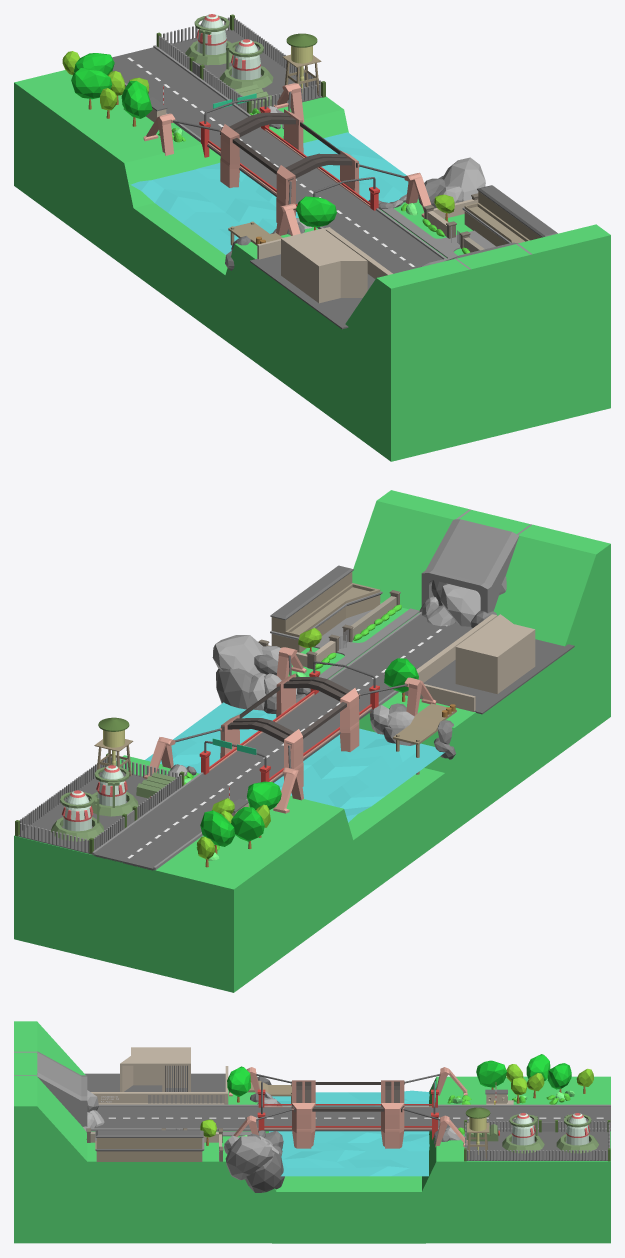
File: Estadio_2.fbx
3 renders of one model, top to bottom at view 1: azimuth 30°, elevation 25°; view 2: azimuth 150°, elevation 25°; view 3: azimuth 270°, elevation 25°, orthographic. The views are drawn at different scales.
Parts seen in each view (by area): view 1: Cube.001, Cube, Grid, Cube.002, Cube.006, Cube.018, Cube.040, Cube.022, Cube.038, Icosphere.042, Icosphere.066, Icosphere.036 (+9 smaller); view 2: Cube.001, Cube, Grid, Cube.002, Cube.039, Cube.018, Cube.006, Cube.040, Cube.022, Cube.038, Icosphere.042, Icosphere.025 (+14 smaller); view 3: Cube.001, Cube, Grid, Cube.002, Cube.018, Cube.006, Cube.039, Cube.022, Cube.007, Cube.040, Icosphere.042, Cylinder.026 (+16 smaller).
Part boxes in pixels (box(x1,y1,x2,y2)): Cube.001: box(14, 45, 610, 461); Cube: box(112, 47, 442, 273); Grid: box(130, 132, 408, 254); Cube.002: box(143, 83, 431, 235); Cube.006: box(281, 228, 367, 303); Cube.018: box(462, 185, 557, 246); Cube.040: box(250, 254, 375, 329); Cube.022: box(172, 29, 321, 112); Cube.038: box(381, 207, 495, 258); Icosphere.042: box(442, 157, 485, 201); Icosphere.066: box(296, 196, 336, 227); Icosphere.036: box(71, 68, 112, 99); Cube.001: box(14, 490, 610, 992); Cube: box(94, 615, 472, 870); Grid: box(145, 702, 444, 822); Cube.002: box(143, 647, 436, 813); Cube.039: box(421, 519, 518, 613); Cube.018: box(270, 565, 382, 652); Cube.006: box(455, 614, 535, 693); Cube.040: box(423, 639, 574, 714); Cube.022: box(18, 772, 169, 854); Cube.038: box(313, 608, 419, 679); Icosphere.042: box(212, 635, 263, 675); Icosphere.025: box(216, 668, 264, 710); Cube.001: box(14, 1021, 610, 1243); Cube: box(95, 1107, 610, 1131); Grid: box(269, 1090, 429, 1176); Cube.002: box(229, 1067, 467, 1148); Cube.018: box(95, 1130, 204, 1161); Cube.006: box(120, 1047, 190, 1091); Cube.039: box(37, 1051, 87, 1126); Cube.022: box(464, 1130, 608, 1160); Cube.007: box(91, 1092, 225, 1104); Cube.040: box(85, 1073, 225, 1091); Icosphere.042: box(225, 1136, 272, 1180); Cylinder.026: box(467, 1150, 606, 1160).
Bounding box in the file's own units: 26350 × 17717 × 69058.
